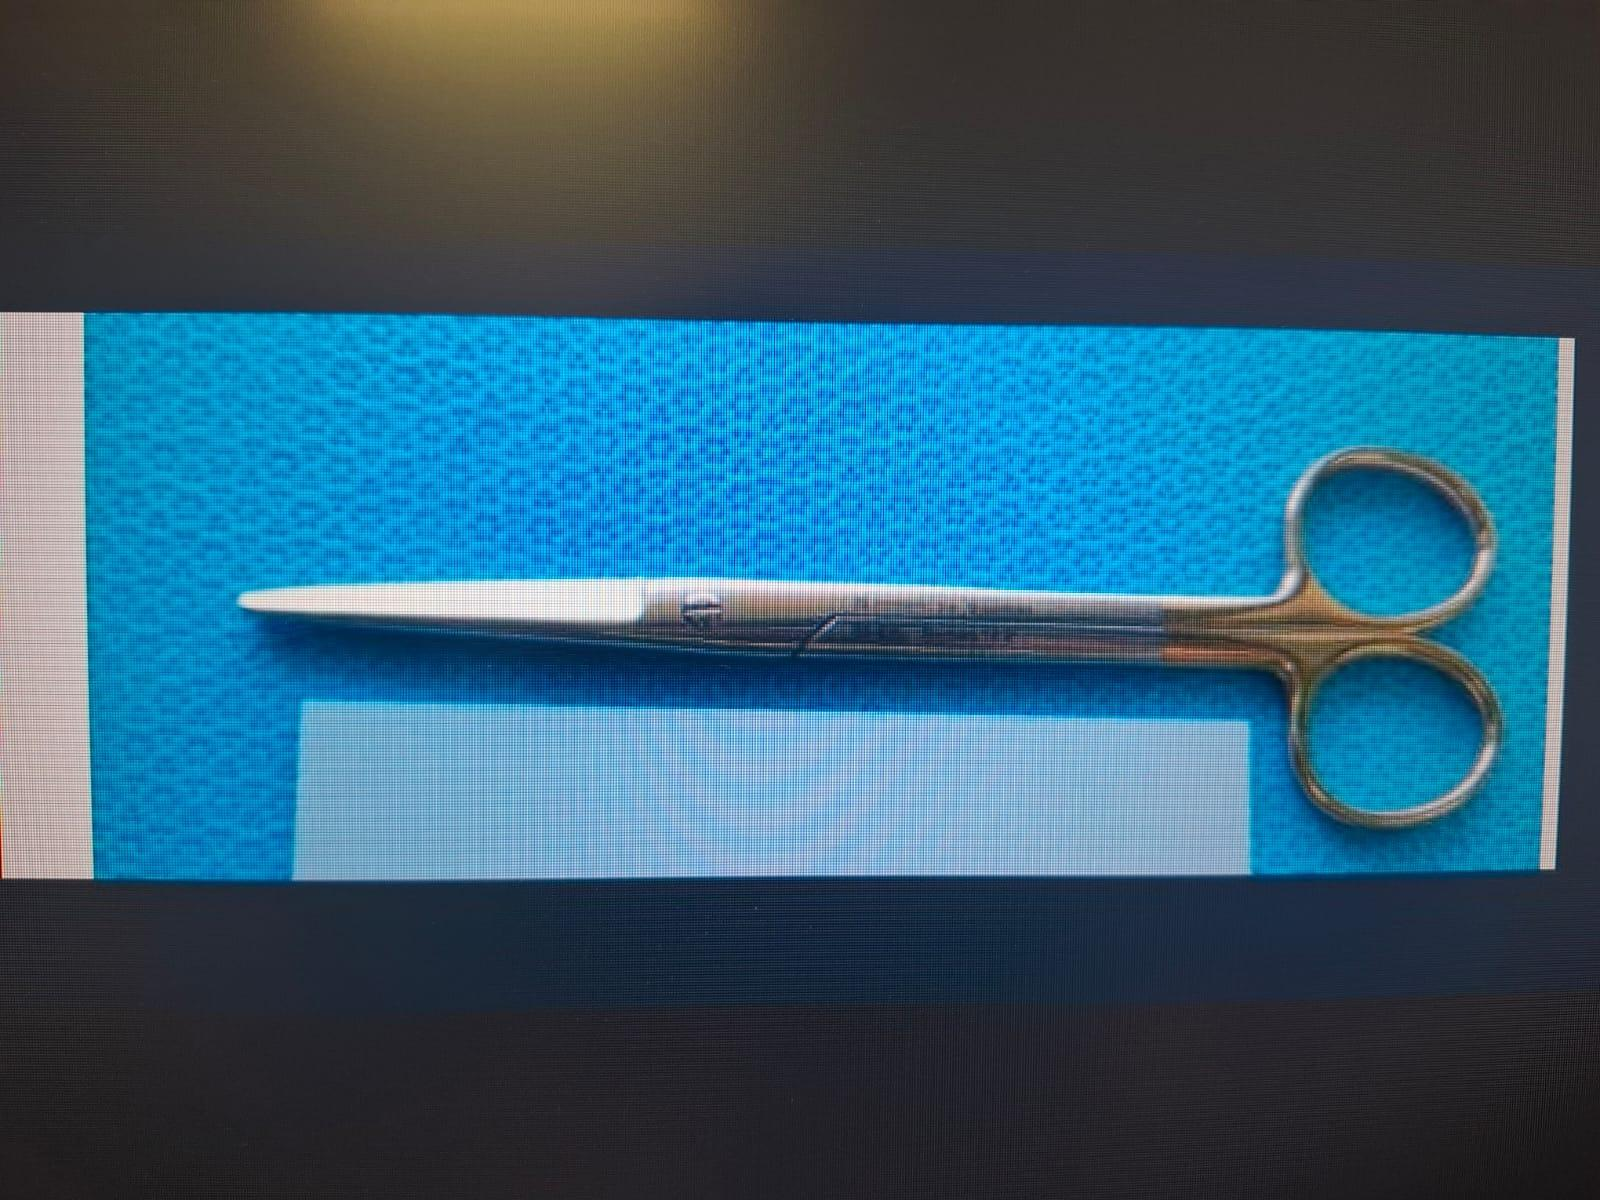Straight Mayo: (232, 429, 1511, 829)
